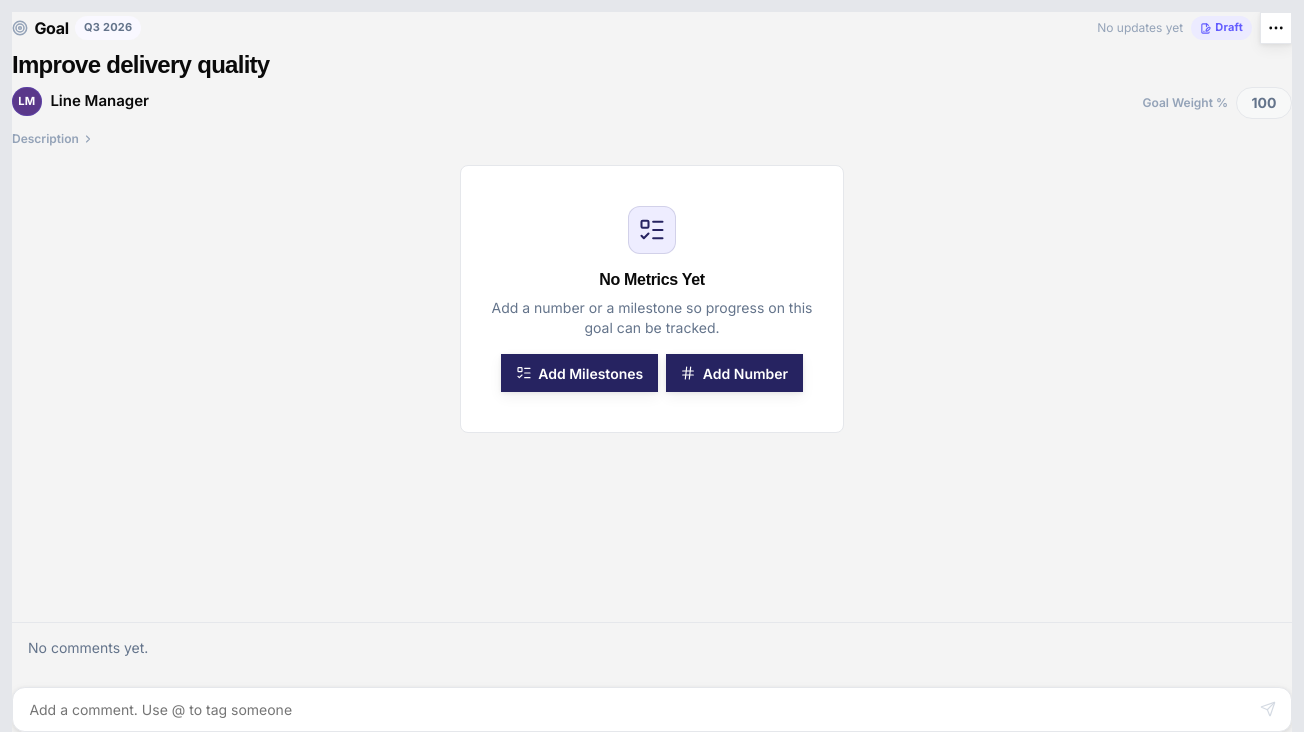
Test: GoalDetailView › offers create when reports have no existing goal to link
Hover over the element named "Goal actions" at (1276, 28), box [1260,12,1292,44]
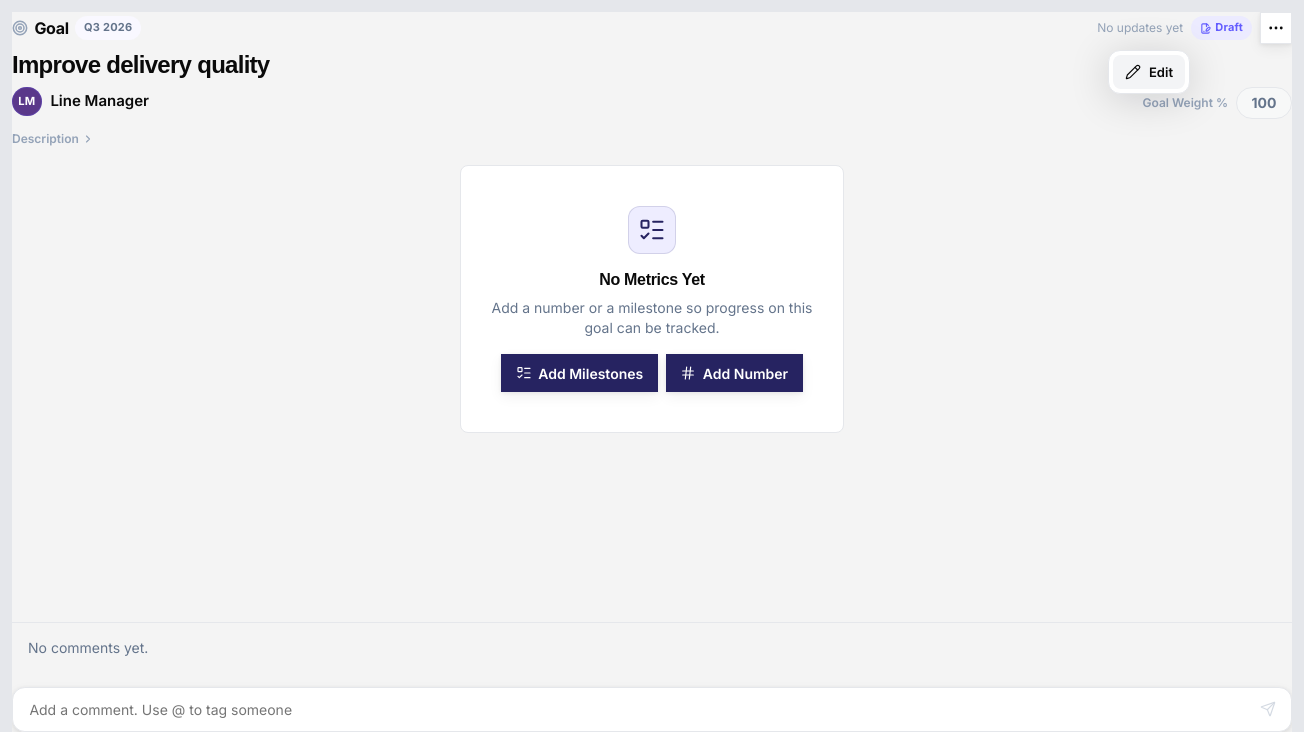
Click the menu item "Edit" at (1149, 72), box [1113,55,1185,89]
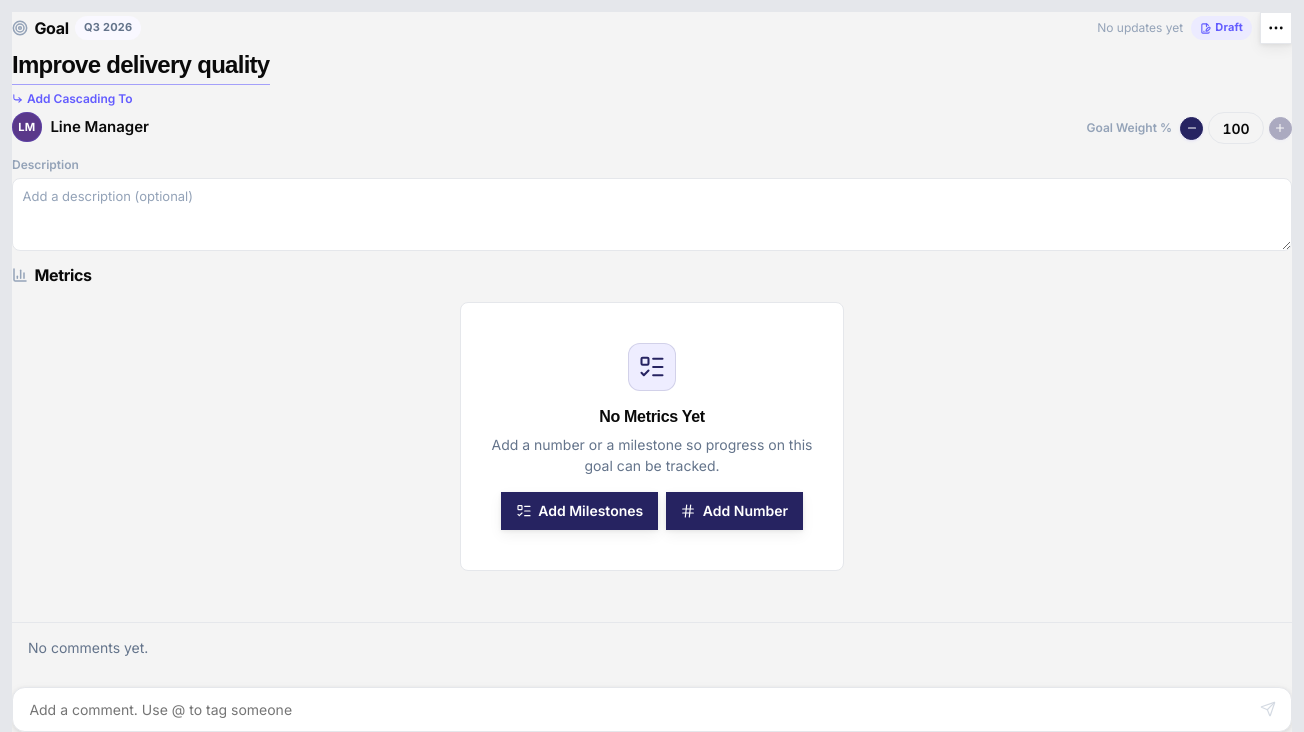
Click the button "Add Cascading To" at (72, 98), box [12,91,133,106]
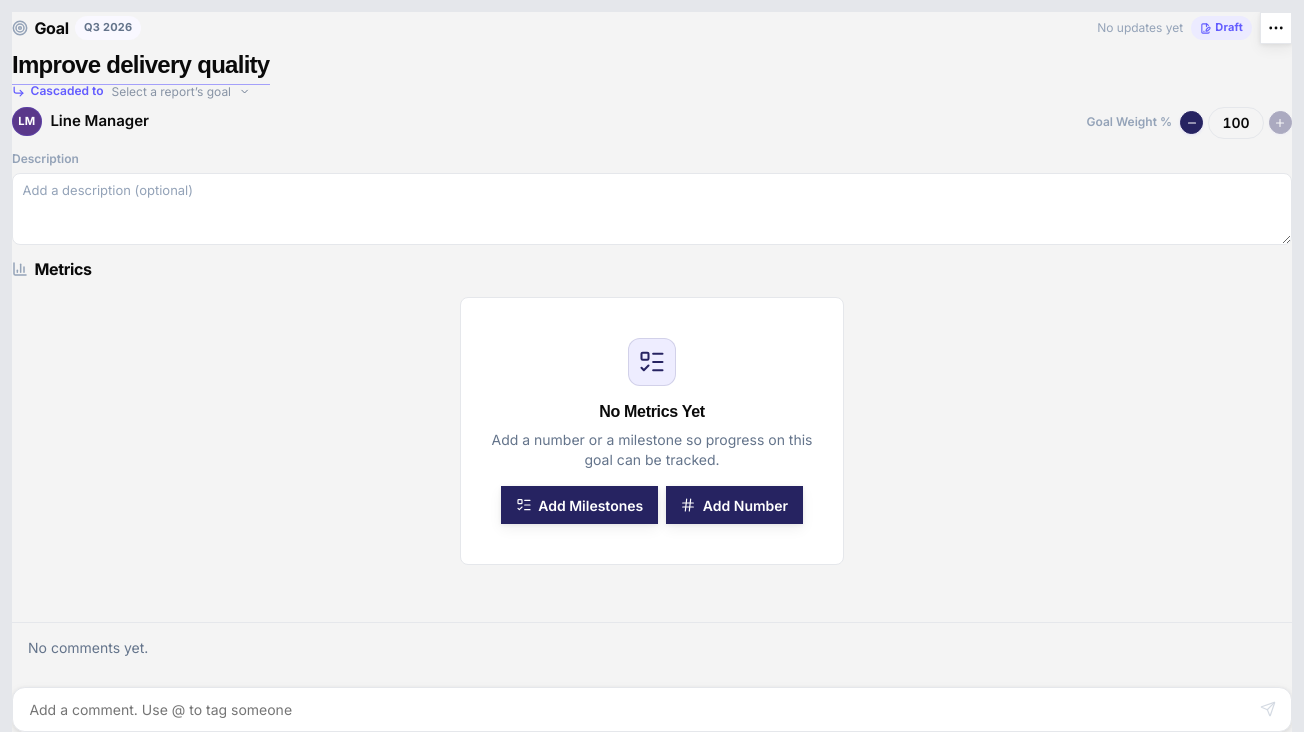
Click the button with aria-label "Cascaded to" at (181, 91), box [111,84,250,99]
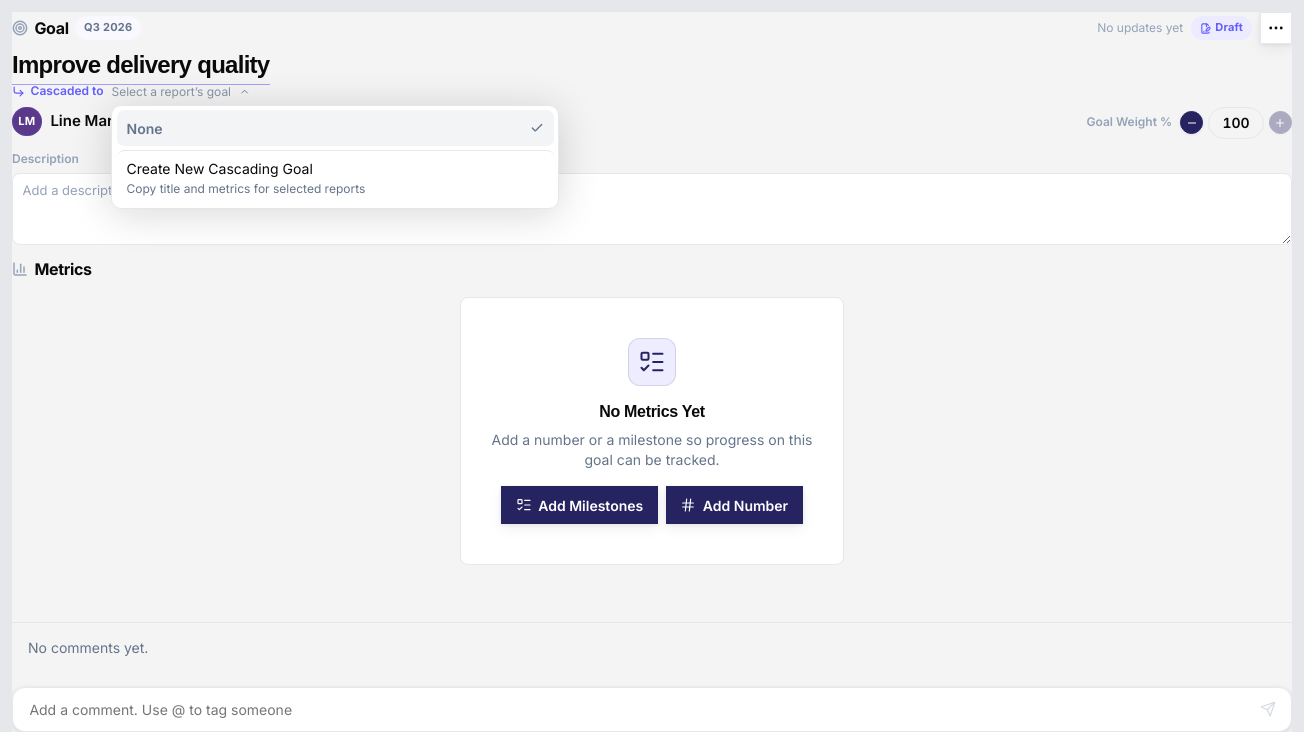
Result: the option "Create New Cascading Goal" is shown at [117,150,554,203]
